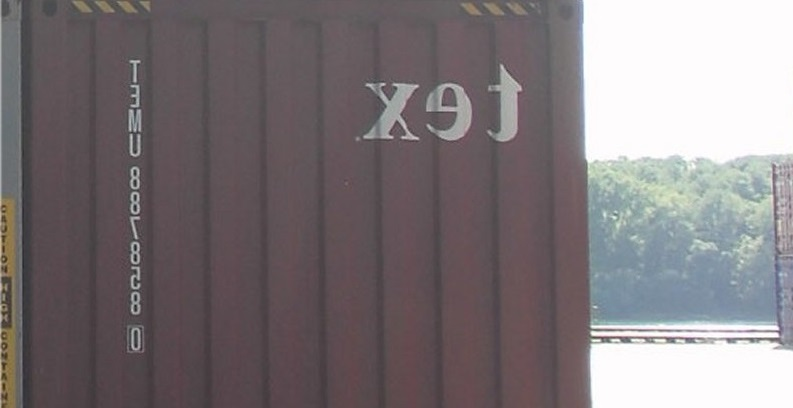container_no_door: (28, 2, 588, 399)
